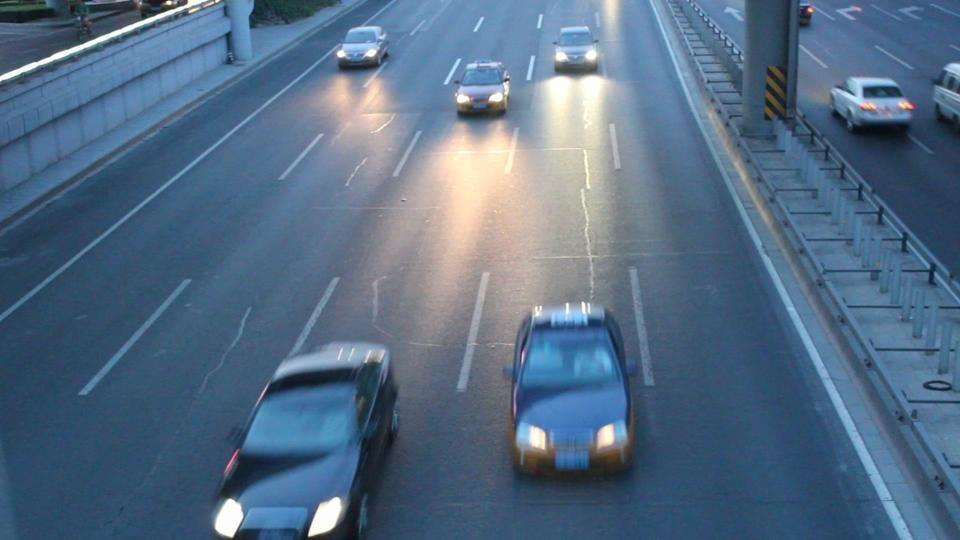car: (209, 339, 403, 538), (505, 302, 636, 478), (829, 76, 916, 133), (451, 60, 512, 116), (552, 24, 600, 74), (336, 26, 390, 69), (931, 61, 960, 134), (797, 1, 815, 27)
